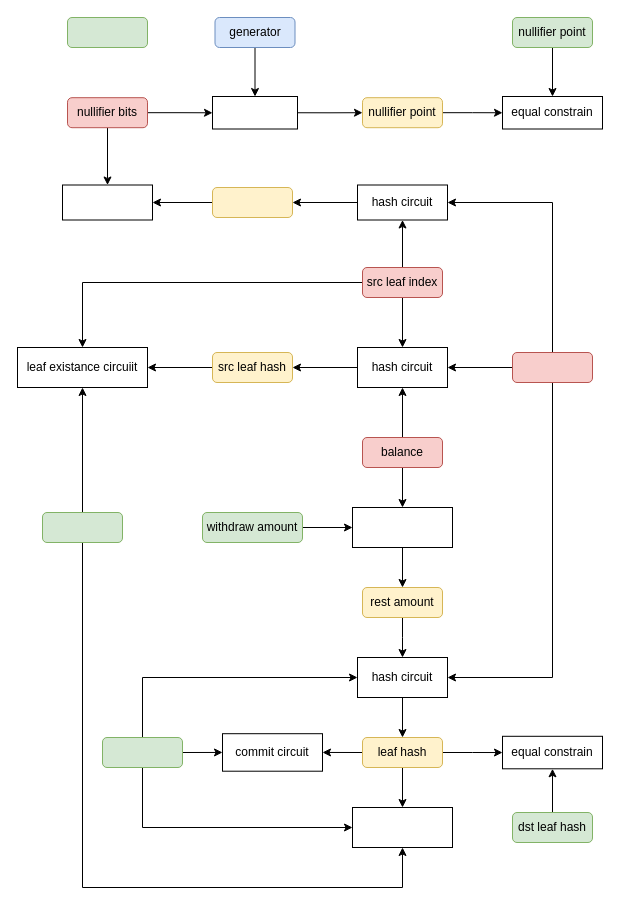
This 620x913 diagram has some shape labels left out. The shapes that lost their labels are listed below. From the top down, each one's box as (x1, y1, x2, y2) in pixels, then its label:
(66, 16, 148, 48): receiver
(212, 96, 298, 129): scalar mul
(62, 184, 152, 220): bits constrain
(212, 186, 292, 218): nullifier
(512, 352, 592, 382): secret
(42, 512, 122, 542): prev root
(352, 506, 452, 548): sub constrain
(102, 736, 182, 768): dst leaf index
(352, 806, 452, 848): add leaf circuiit
